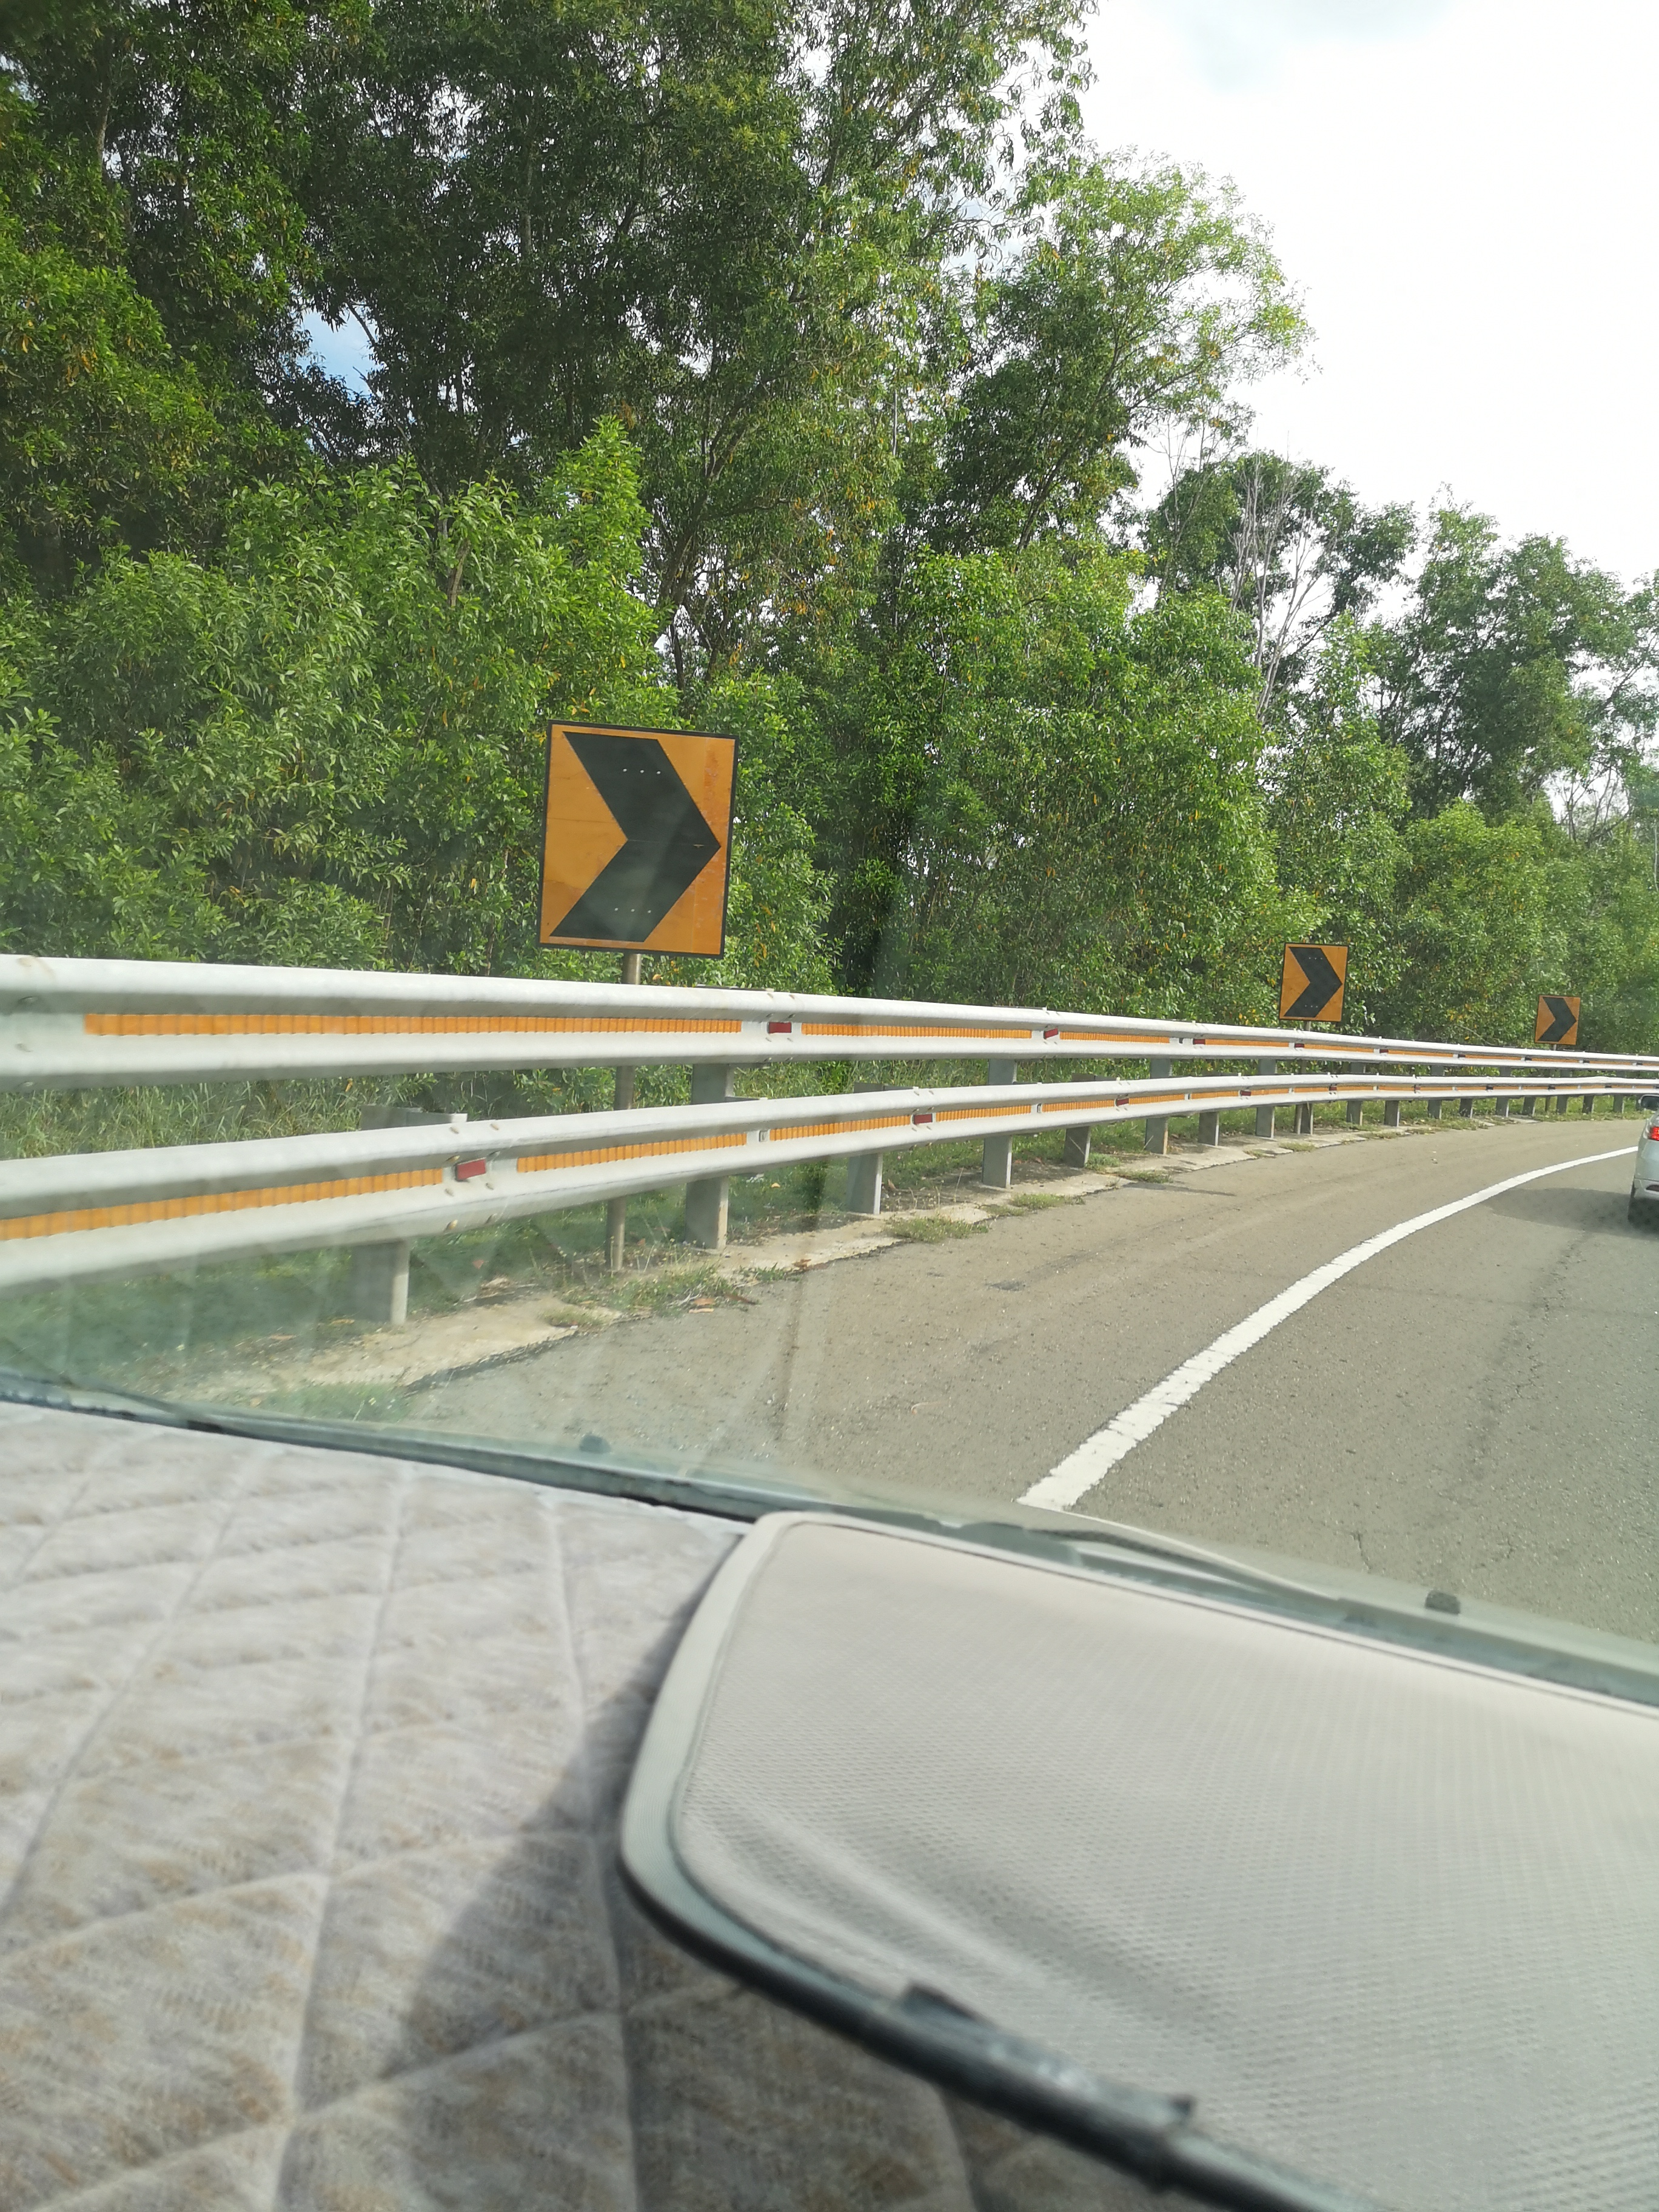chevron: (540, 721, 741, 965), (1283, 937, 1345, 1033), (1530, 982, 1582, 1040)
